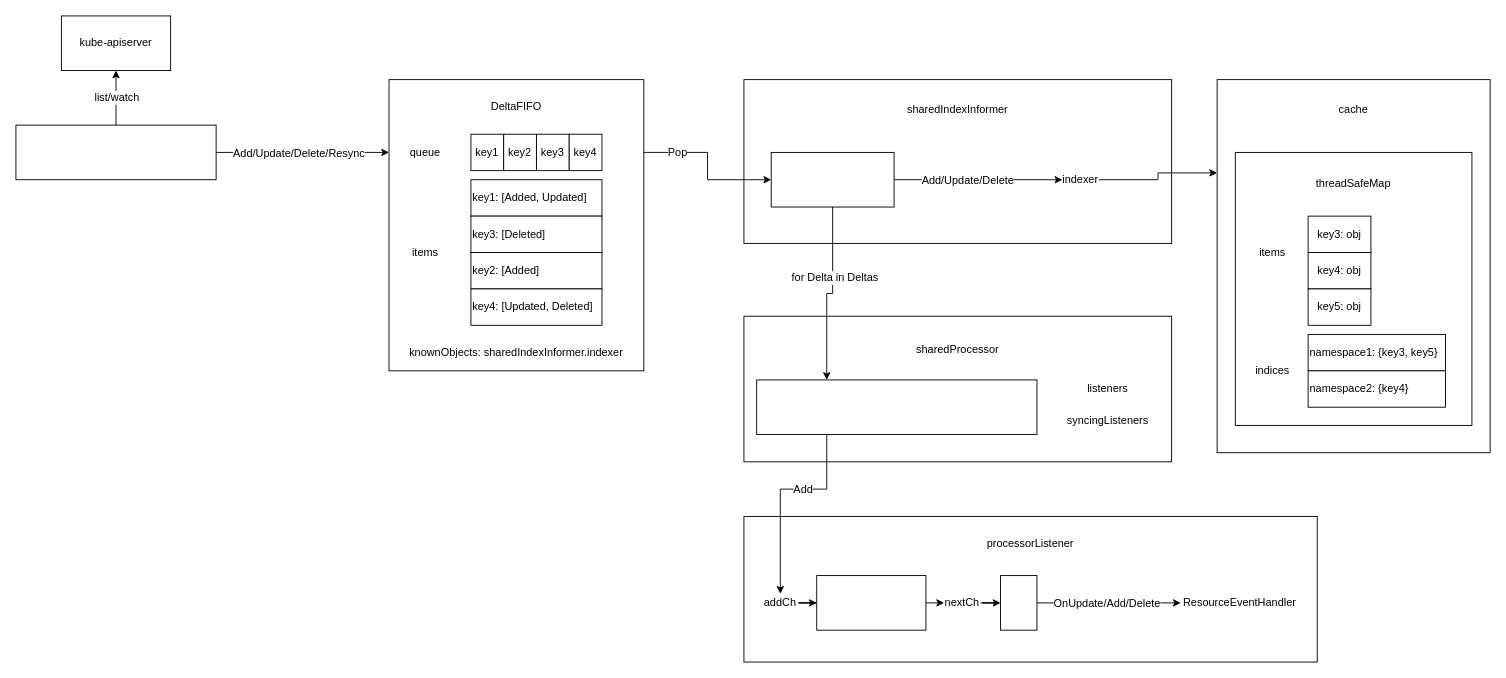
The diagram is 1506 pixels wide and 678 high, and some of its shapes have lost their labels. The centre of each missing label's shape, as x and y in pixels:
distribute(obj update/add/deleteNotification, sync bool): point 896,407
HandleDeltas(Deltas): point 832,179
pendingNotifications: point 871,602
Reflector lastSyncResourceVersion: 123456: point 115,152
run: point 1018,602
